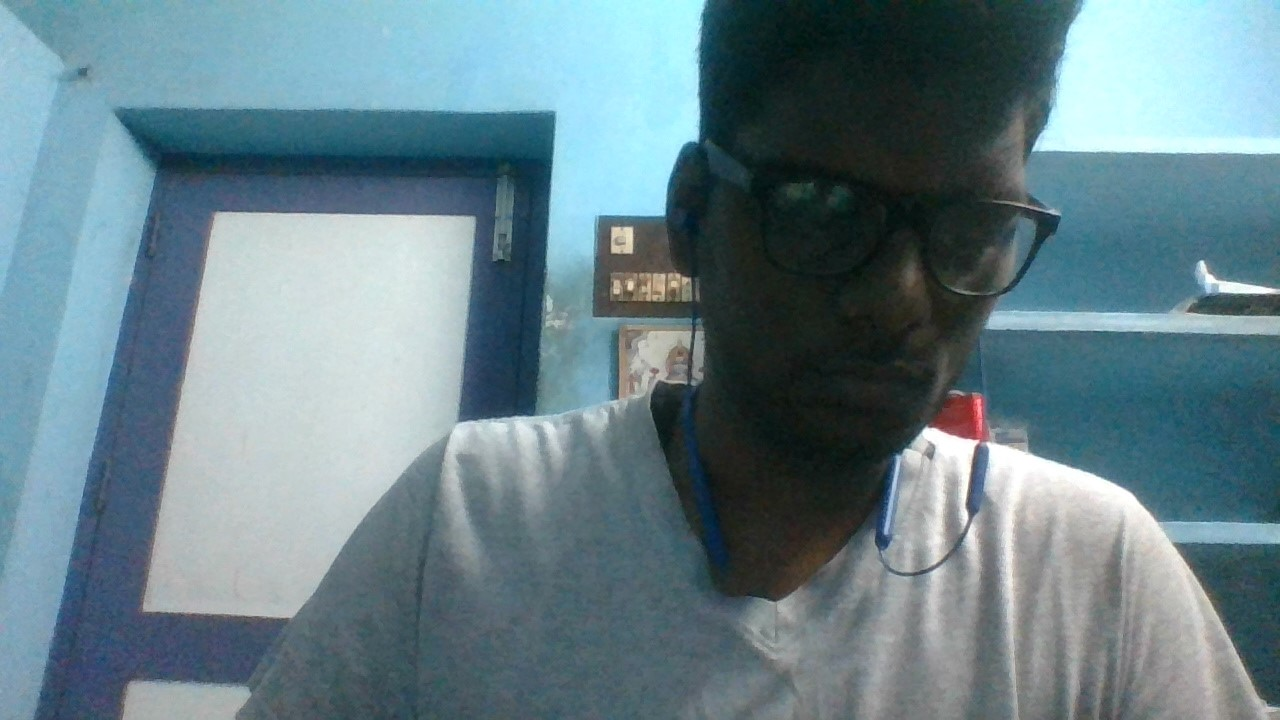person: (318, 3, 1227, 720)
